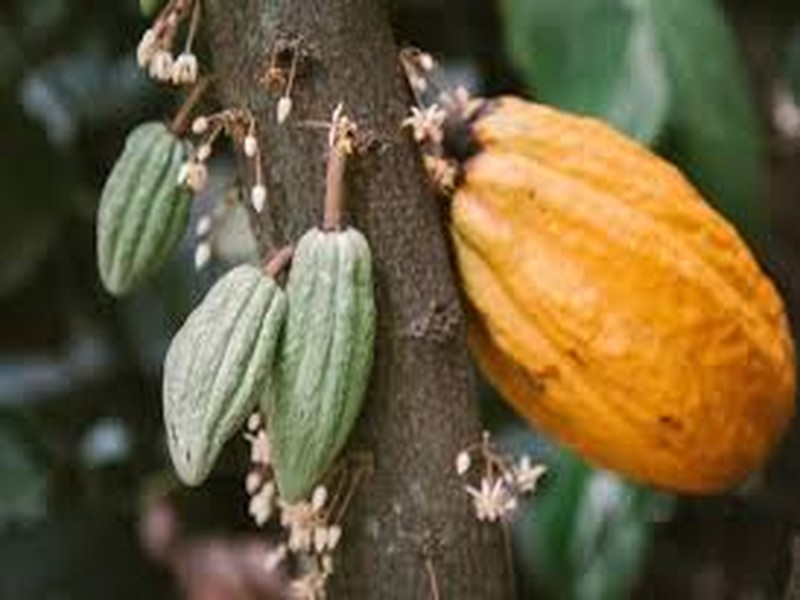Cacaopod: (442, 95, 789, 495)
